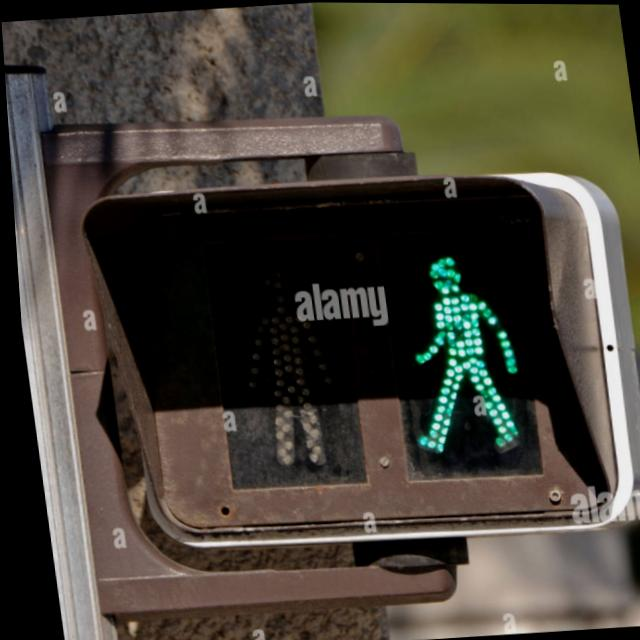green_light: (387, 237, 539, 472)
